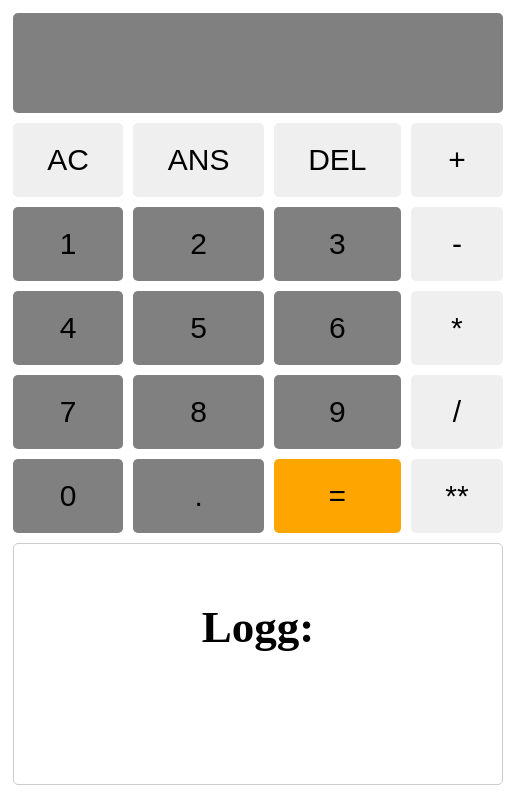
Test case: Calculator › calculation with double +
The width and height of the screenshot is (520, 802).
Step 1. Click the button with class "area5" → (199, 244), box [133,207,264,281]
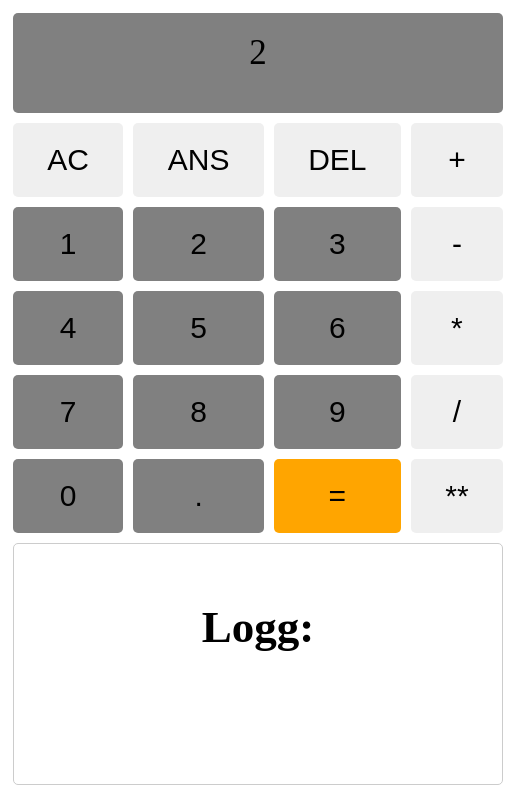
Step 2. Click the button "+" → (457, 160), box [411,123,503,197]
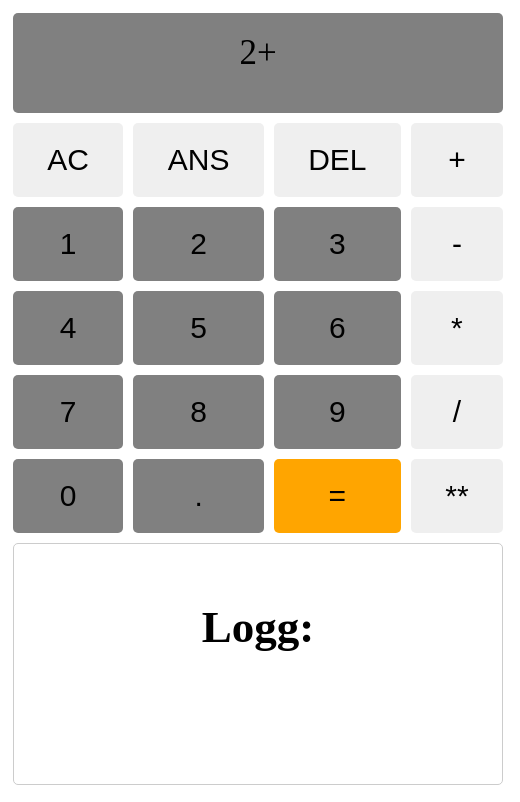
Step 3. Click the button "+" → (457, 160), box [411,123,503,197]
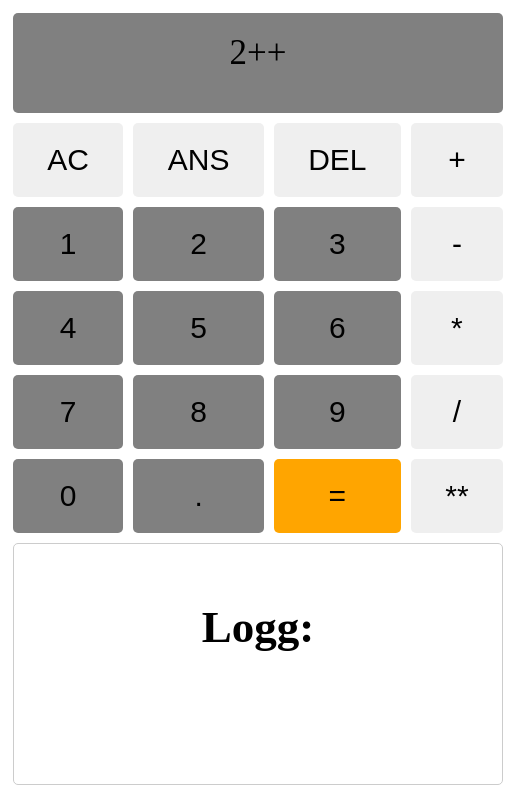
Step 4. Click the button with class "area9" → (199, 328), box [133,291,264,365]
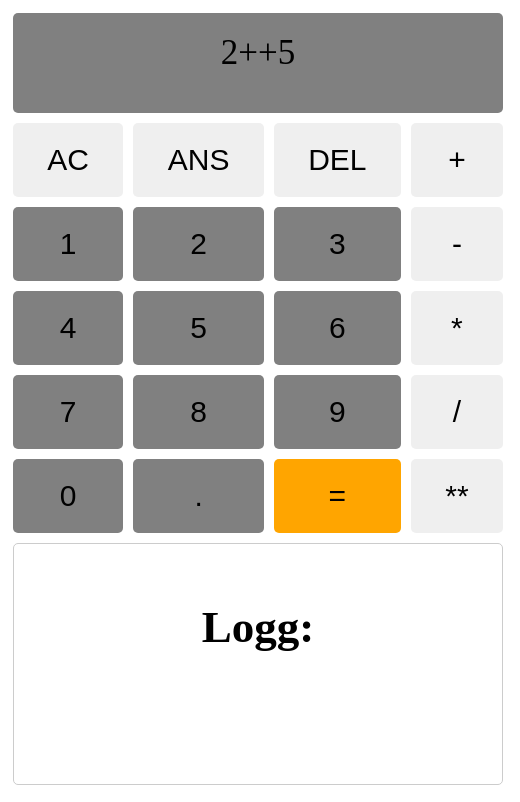
Step 5. Click the button with class "area18" → (337, 496), box [274,459,401,533]
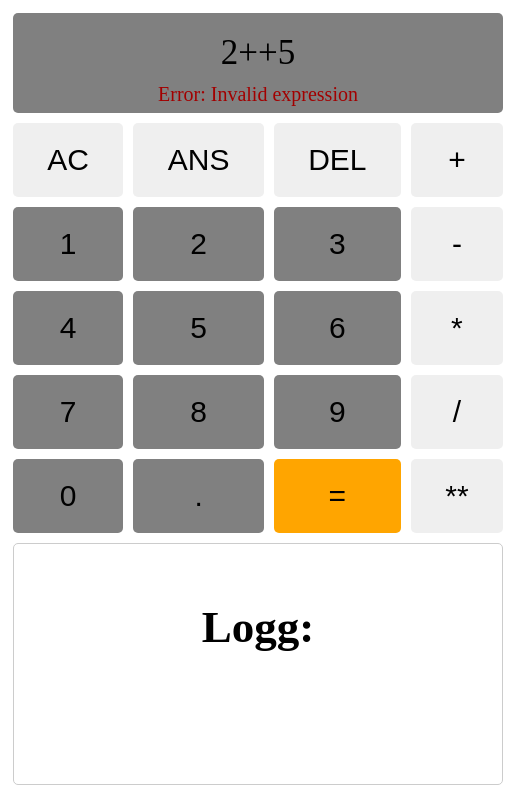
Check: the text "Error: Invalid expression" is shown, box [158,83,358,105]
